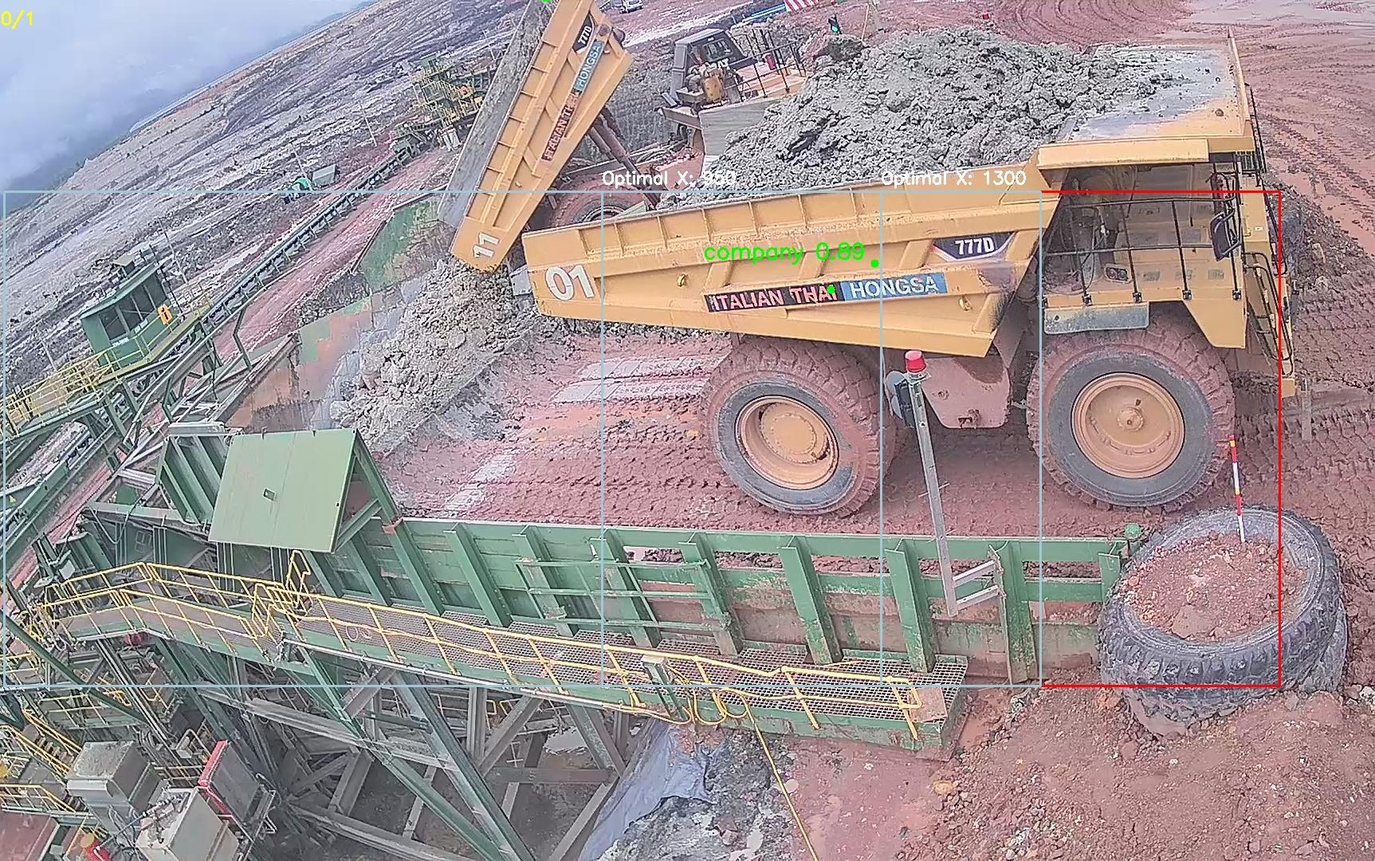company: (680, 271, 966, 318)
full_load: (748, 21, 1043, 194)
mining_truck: (509, 3, 1323, 511)
tail_number: (537, 246, 608, 312)
truck_size: (925, 222, 1013, 260)
